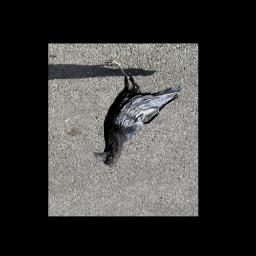Crow: (93, 60, 182, 169)
